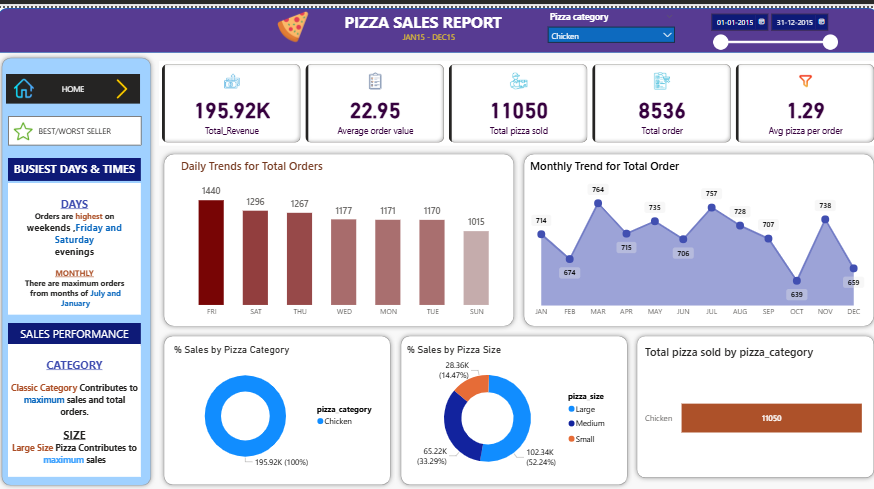

This screenshot's page, from the dashboard's own definition file:
{"tool":"powerbi","page":{"name":"HOME","canvas":[1500,820],"ordinal":0},"visuals":[{"type":"cardVisual","fields":{"Data":["pizza_sales.Total_Revenue","pizza_sales.Average order value","pizza_sales.Total pizza sold","pizza_sales.Total order","pizza_sales.Avg pizza per order"]},"box":[276,90,1224,144],"z":0},{"type":"shape","box":[0,0,1500,76],"z":1000},{"type":"textbox","box":[548,0,354,70],"z":2000},{"type":"textbox","box":[678,36,112,54],"z":3000},{"type":"image","box":[460,0,88,64],"z":4000},{"type":"shape","box":[276,240,612,310],"z":5000},{"type":"columnChart","title":"Daily Trends for Total Orders","fields":{"Category":["pizza_sales.order day"],"Y":["pizza_sales.Total order"]},"box":[308,256,566,280],"z":6000},{"type":"shape","box":[888,240,612,310],"z":7000},{"type":"areaChart","title":"Monthly Trend for Total Order","fields":{"Category":["pizza_sales.order Month"],"Y":["pizza_sales.Total order"]},"box":[902,256,580,280],"z":8000},{"type":"shape","box":[276,550,402,270],"z":9000},{"type":"shape","box":[678,550,402,270],"z":10000},{"type":"shape","box":[1080,550,420,258],"z":11000},{"type":"donutChart","title":"% Sales by Pizza Category","fields":{"Category":["pizza_sales.pizza_category"],"Y":["pizza_sales.Total_Revenue"]},"box":[296,572,362,226],"z":12000},{"type":"donutChart","title":"% Sales by Pizza Size","fields":{"Category":["pizza_sales.pizza_size","pizza_sales.pizza_category"],"Y":["pizza_sales.Total_Revenue"]},"box":[692,572,364,234],"z":13000},{"type":"funnel","fields":{"Y":["pizza_sales.Total pizza sold"],"Category":["pizza_sales.pizza_category"]},"box":[1098,572,384,226],"z":14000},{"type":"shape","box":[0,76,270,744],"z":15000},{"type":"textbox","box":[18,256,226,39],"z":16000},{"type":"textbox","box":[18,298,226,224],"z":17000},{"type":"textbox","box":[18,536,226,39],"z":18000},{"type":"textbox","box":[18,572,226,226],"z":19000},{"type":"slicer","fields":{"Values":["pizza_sales.pizza_category"]},"box":[928,0,236,70],"z":20000},{"type":"slicer","fields":{"Values":["pizza_sales.order_date"]},"box":[1202,0,236,76],"z":21000},{"type":"pageNavigator","box":[16,112,228,50],"z":21001},{"type":"pageNavigator","box":[18,184,227,50],"z":21002},{"type":"image","box":[178,116,68,44],"z":21003},{"type":"image","box":[24,110,44,52],"z":21004},{"type":"image","box":[14,188,62,42],"z":21005}]}

Visuals, with their boxes in screenshot pixels (x1, y1, x2, y2), scaled from the page's 1500x820 canvas onto the 874x489 screenshot:
cardVisual - pizza_sales.Total_Revenue x pizza_sales.Average order value: 161/54/873/140
shape: 0/0/873/45
textbox: 319/0/526/42
textbox: 395/21/460/54
image: 268/0/319/38
shape: 161/143/517/328
"Daily Trends for Total Orders" columnChart: 179/153/509/320
shape: 517/143/873/328
"Monthly Trend for Total Order" areaChart: 526/153/864/320
shape: 161/328/395/488
shape: 395/328/629/488
shape: 629/328/873/482
"% Sales by Pizza Category" donutChart: 172/341/383/476
"% Sales by Pizza Size" donutChart: 403/341/615/481
funnel - pizza_sales.Total pizza sold x pizza_sales.pizza_category: 640/341/864/476
shape: 0/45/157/488
textbox: 10/153/142/176
textbox: 10/178/142/311
textbox: 10/320/142/343
textbox: 10/341/142/476
slicer - pizza_sales.pizza_category: 541/0/678/42
slicer - pizza_sales.order_date: 700/0/838/45
pageNavigator: 9/67/142/97
pageNavigator: 10/110/143/140
image: 104/69/143/95
image: 14/66/40/97
image: 8/112/44/137
